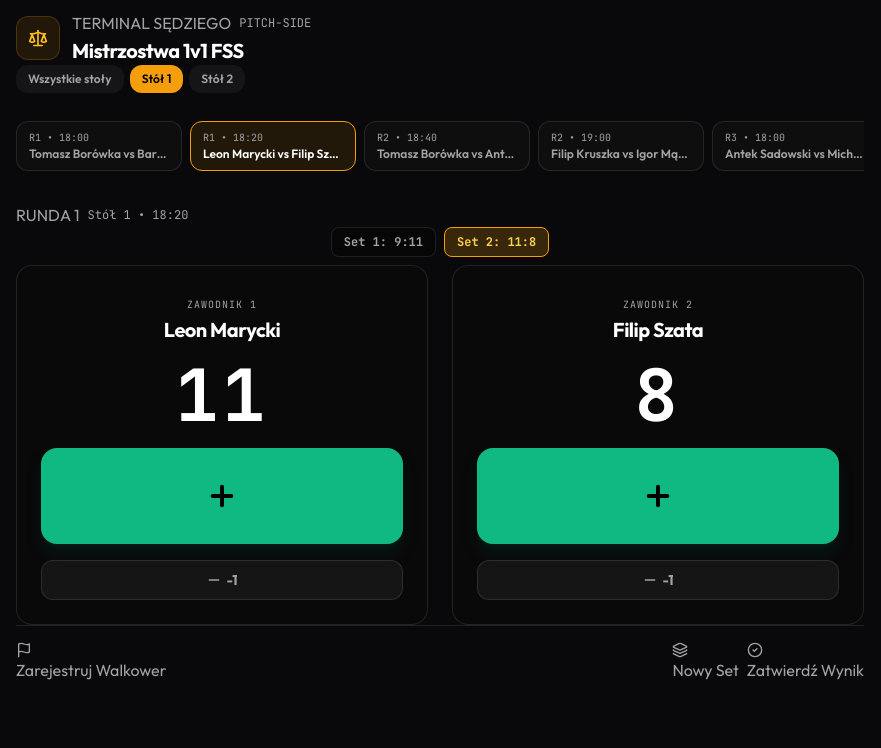
Test case: Challenger M4 Empirical Adversarial Test Suite › 4. Referee 15-Second Undo Toast, Score Reversion & Timer Cleanup › UNDO-01: Referee 15-second undo toast correctly reverts score changes
Click the button "Zatwierdź Wynik" at (805, 662), box x1=747 y1=642 x2=864 y2=682
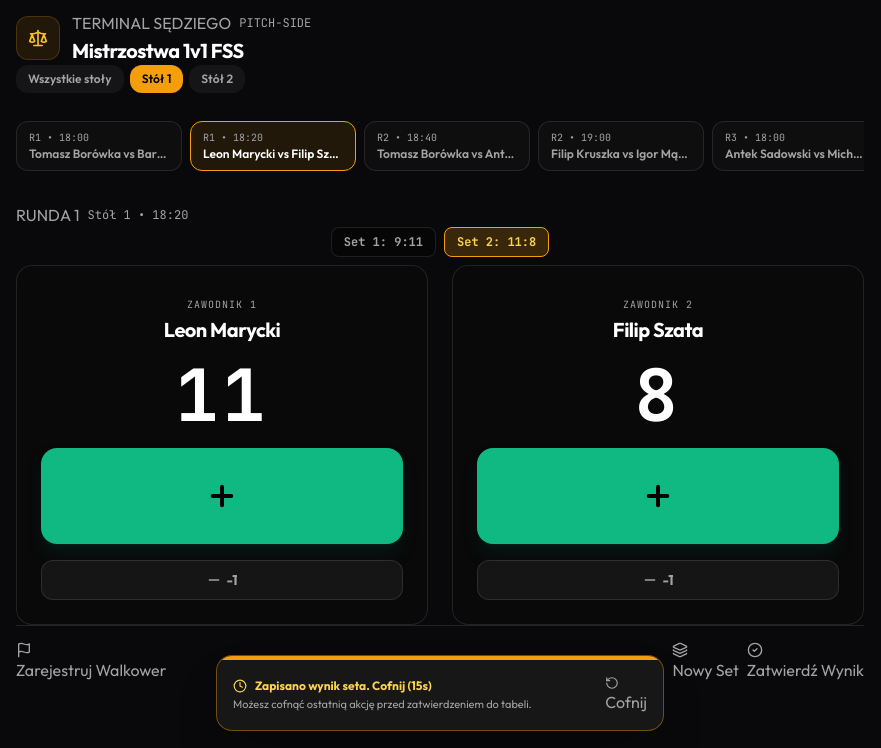
Result: the text "Zapisano wynik seta. Cofnij (15s)" is shown at x1=255 y1=678 x2=432 y2=694
Click "Cofnij"
Click the button "Cofnij" at (626, 695), box x1=605 y1=676 x2=647 y2=714
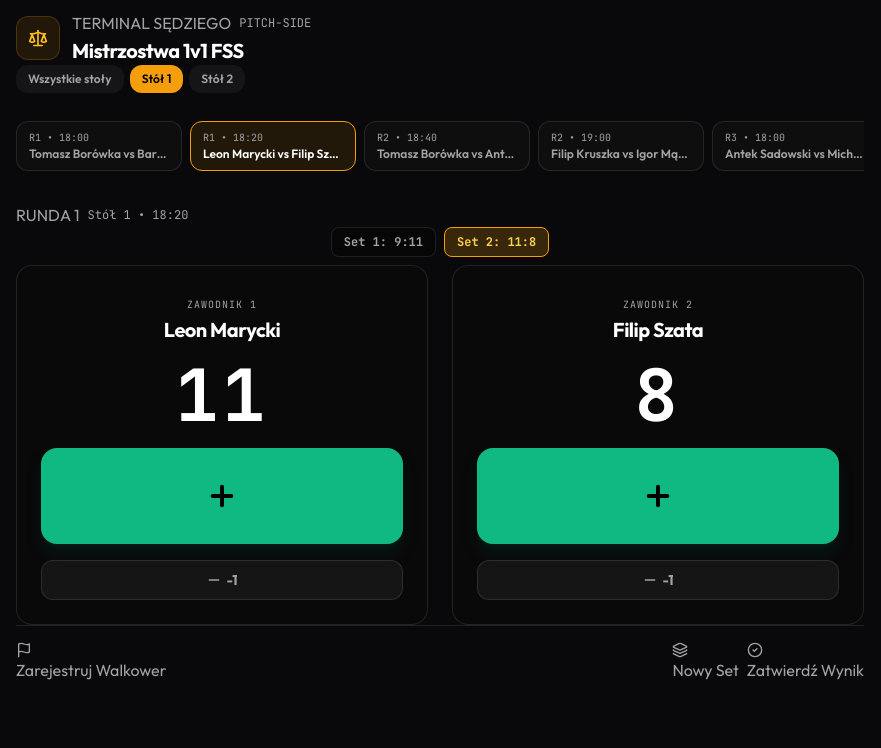
Result: the text "Zapisano wynik seta. Cofnij (15s)" is gone
